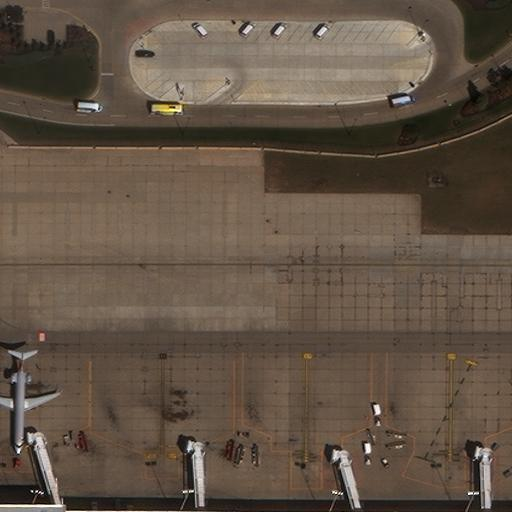Medium Civil Transport: (0, 350, 60, 454)
